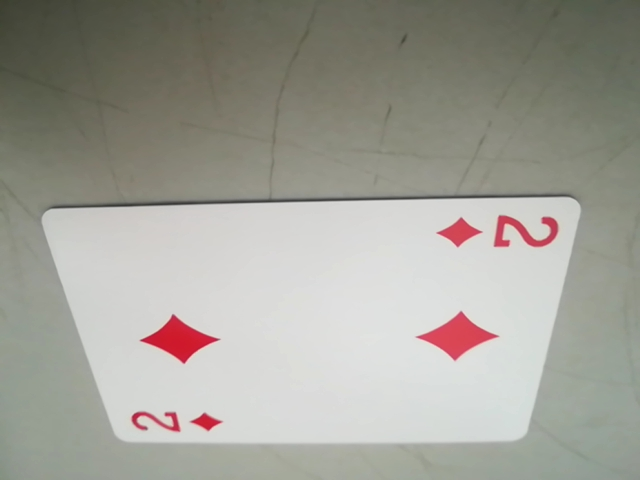fk 2: (432, 205, 565, 257), (122, 401, 227, 441)
